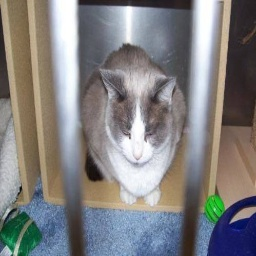cat: (84, 42, 188, 213)
